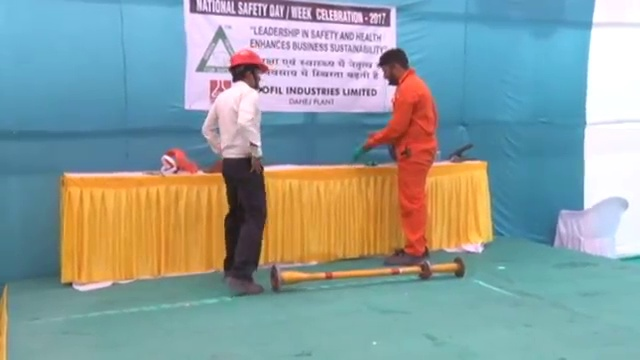helmet: (226, 49, 269, 76)
helmet_off: (379, 49, 412, 86)
helmet_on: (224, 48, 270, 92)
person: (199, 49, 273, 294), (356, 51, 439, 265)
